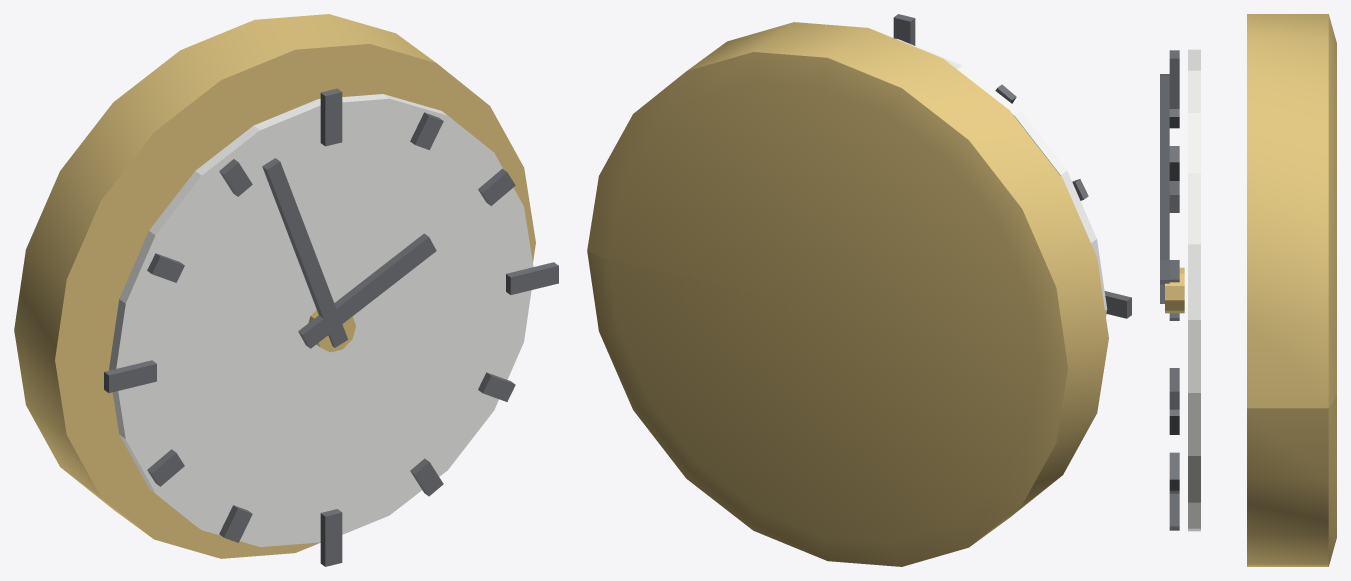
3 views of the same model, side by side, from view 1: azimuth 30°, elevation 25°; view 2: azimuth 150°, elevation 25°; view 3: azimuth 270°, elevation 25° (orthographic).
Visible parts, largest first — view 1: wall-clock; view 2: wall-clock; view 3: wall-clock.
Part boxes in pixels (x1,y1,x2,y2): wall-clock: [14, 14, 558, 566]; wall-clock: [587, 14, 1131, 566]; wall-clock: [1160, 14, 1336, 566].
Size of the model in its own units: 0.34 by 0.34 by 0.108.
